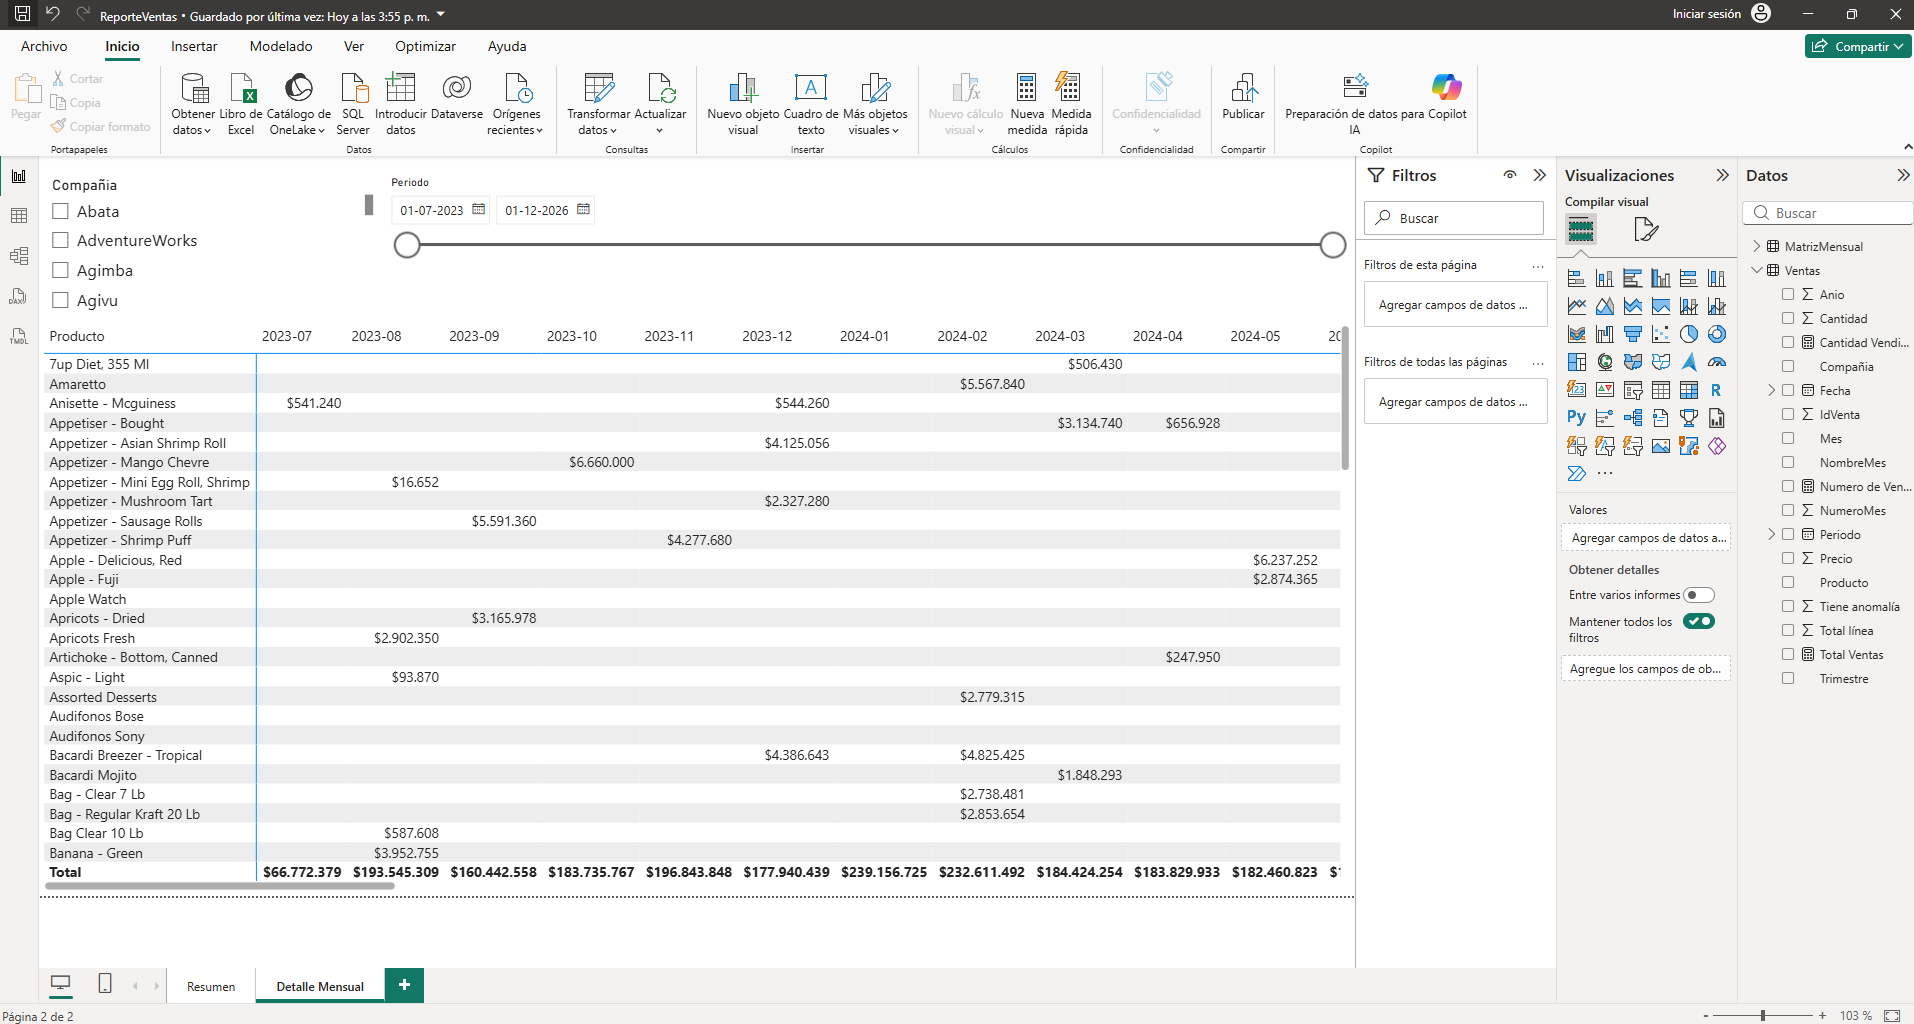

The page's visual inventory and layout, read from the dashboard file:
{"tool":"powerbi","page":{"name":"Detalle Mensual","canvas":[1280,720],"ordinal":1},"visuals":[{"type":"pivotTable","fields":{"Rows":["Ventas.Producto"],"Columns":["Ventas.AnioMes"],"Values":["Ventas.Total Ventas"]},"box":[0,159.5,1280,560.2],"z":0},{"type":"slicer","fields":{"Values":["Ventas.Compania"]},"box":[0,14.6,329.7,144.9],"z":1},{"type":"slicer","fields":{"Values":["Ventas.Periodo"]},"box":[329.7,14.6,950.3,144.9],"z":2}]}

Visuals, with their boxes on the page's 1280x720 design canvas (x1, y1, x2, y2). These are canvas units, not pixel positions in the 1914x1024 screenshot, which may show the page scaled, cropped or inside an application window:
pivotTable - Ventas.Producto x Ventas.AnioMes: detection(0, 160, 1280, 720)
slicer - Ventas.Compania: detection(0, 15, 330, 160)
slicer - Ventas.Periodo: detection(330, 15, 1280, 160)
